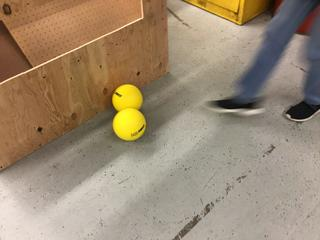power_cell: (111, 108, 149, 142), (111, 79, 149, 112)
